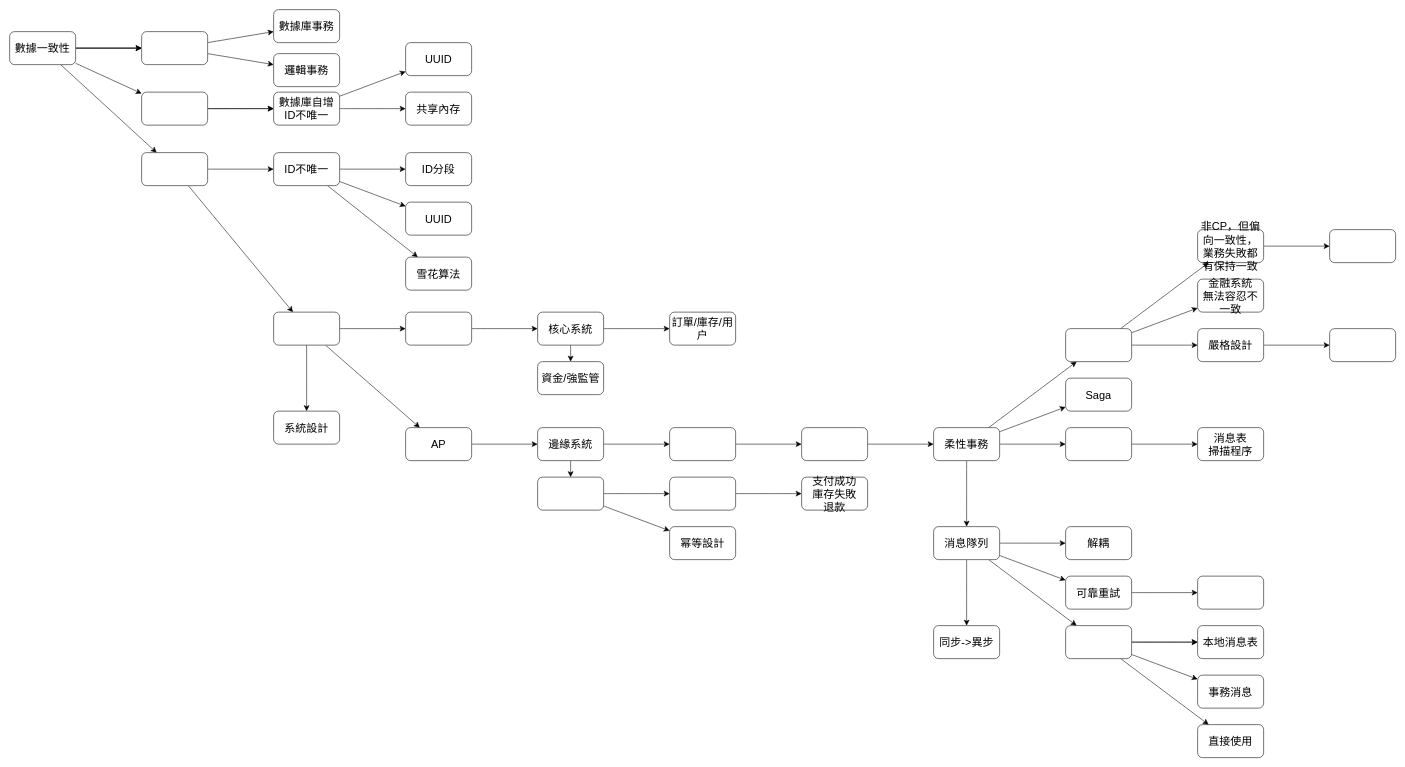
The diagram is 1405 pixels wide and 767 high, and some of its shapes have lost their labels. Here are the shapes that lost their labels. From the top down, the box of each, then its label:
(141, 31, 208, 65): 本地單機
(141, 92, 208, 125): 本地集羣
(141, 152, 208, 186): 分佈式儲存
(1329, 229, 1396, 263): 凍結庫存時不一致
(273, 312, 340, 345): CAP原理
(405, 312, 472, 345): CP
(1065, 328, 1132, 362): TCC
(1329, 328, 1396, 362): 每個服務需要三個接口
(669, 427, 736, 461): 物流/日誌/搜索/
(801, 427, 868, 461): BASE
(1065, 427, 1132, 461): 本地消息表+MQ
(537, 477, 604, 510): 補償/重試
(669, 477, 736, 510): 每個服務補償業務
(1197, 576, 1264, 609): ack retry dead letter queue
(1065, 625, 1132, 659): 企業架構消息模式
